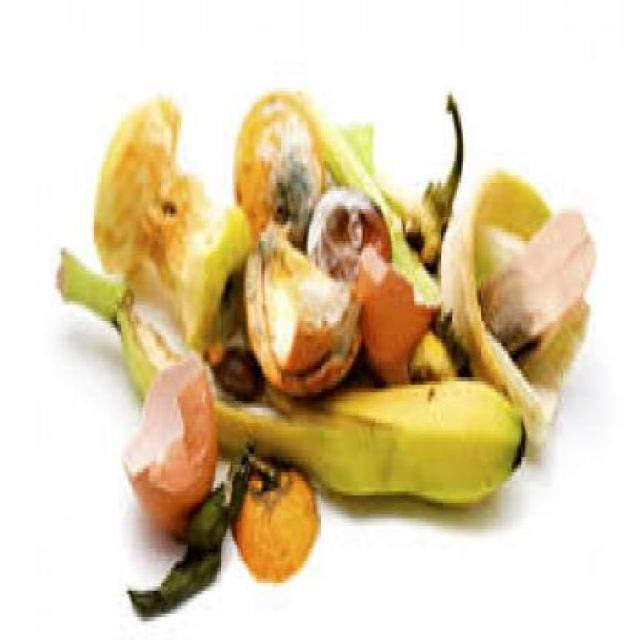garbage: (45, 65, 606, 629)
